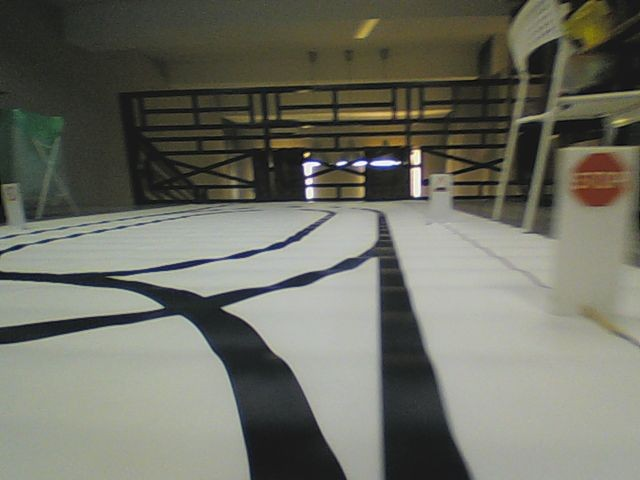Stop: (568, 152, 630, 207)
